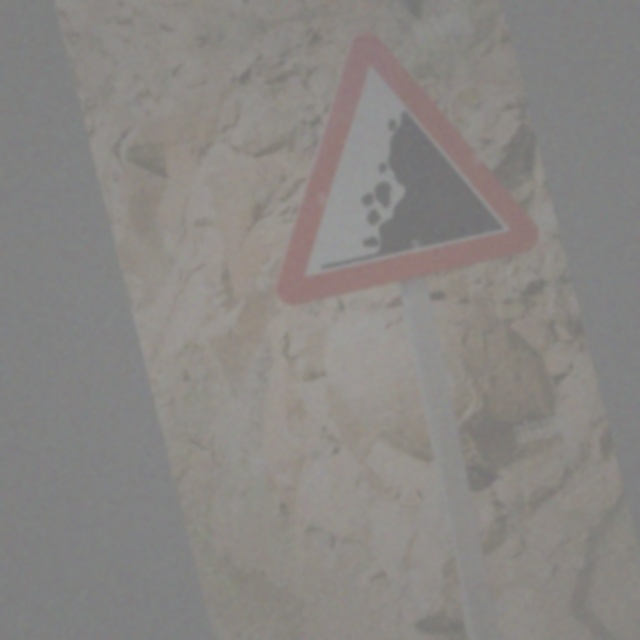Falling_Rocks: (231, 12, 541, 308)
